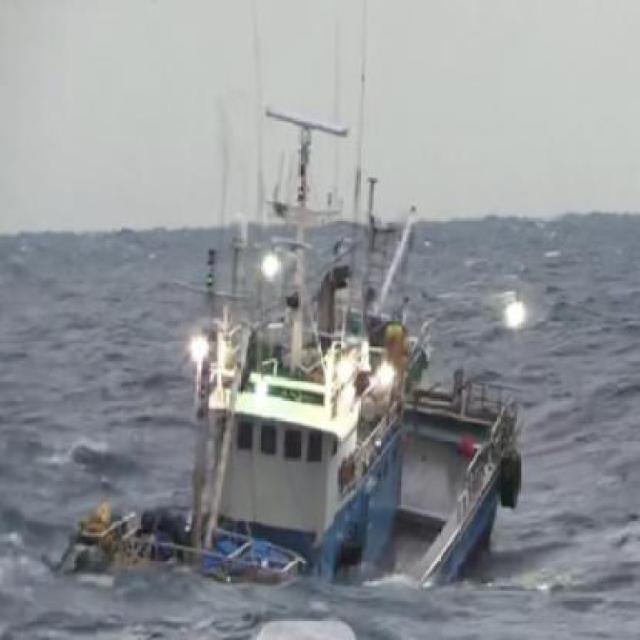fish-b: (79, 5, 536, 609)
